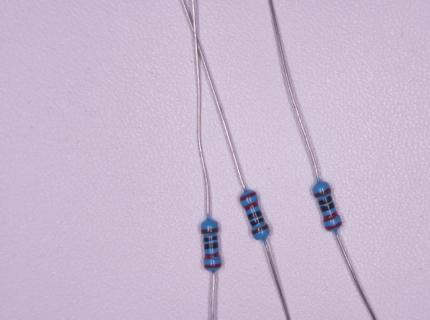Red band: (240, 191, 257, 202), (325, 221, 342, 231), (324, 211, 339, 222), (243, 201, 259, 211), (205, 252, 219, 259), (204, 263, 222, 268)
